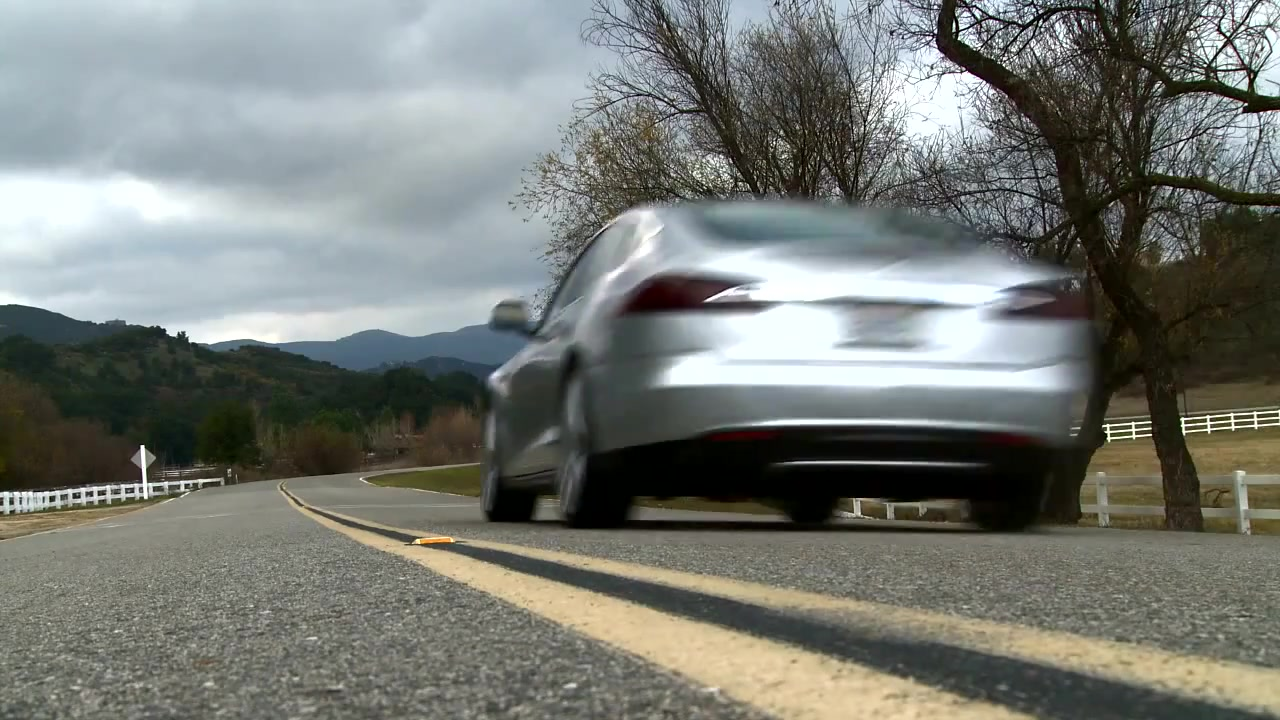car: (476, 193, 1104, 536)
